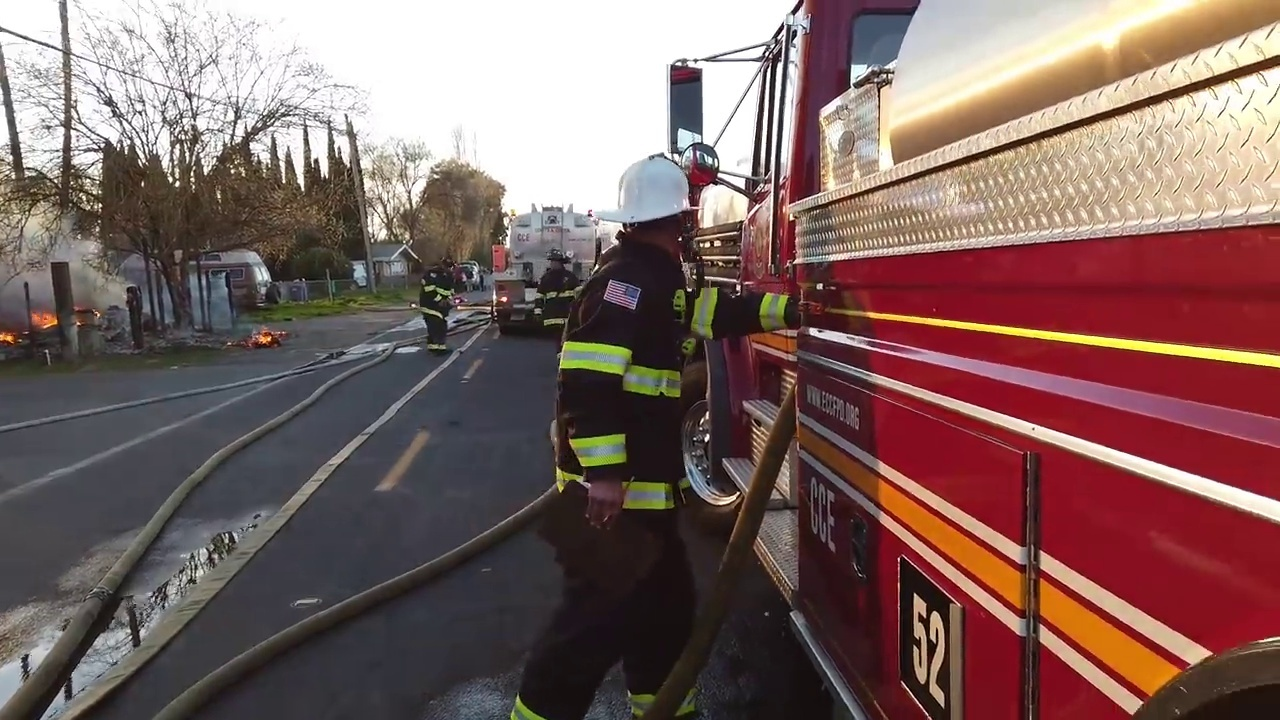fire: (243, 329, 281, 344), (33, 312, 56, 326), (1, 330, 18, 340)
smoke: (13, 218, 228, 311), (188, 310, 257, 328)
